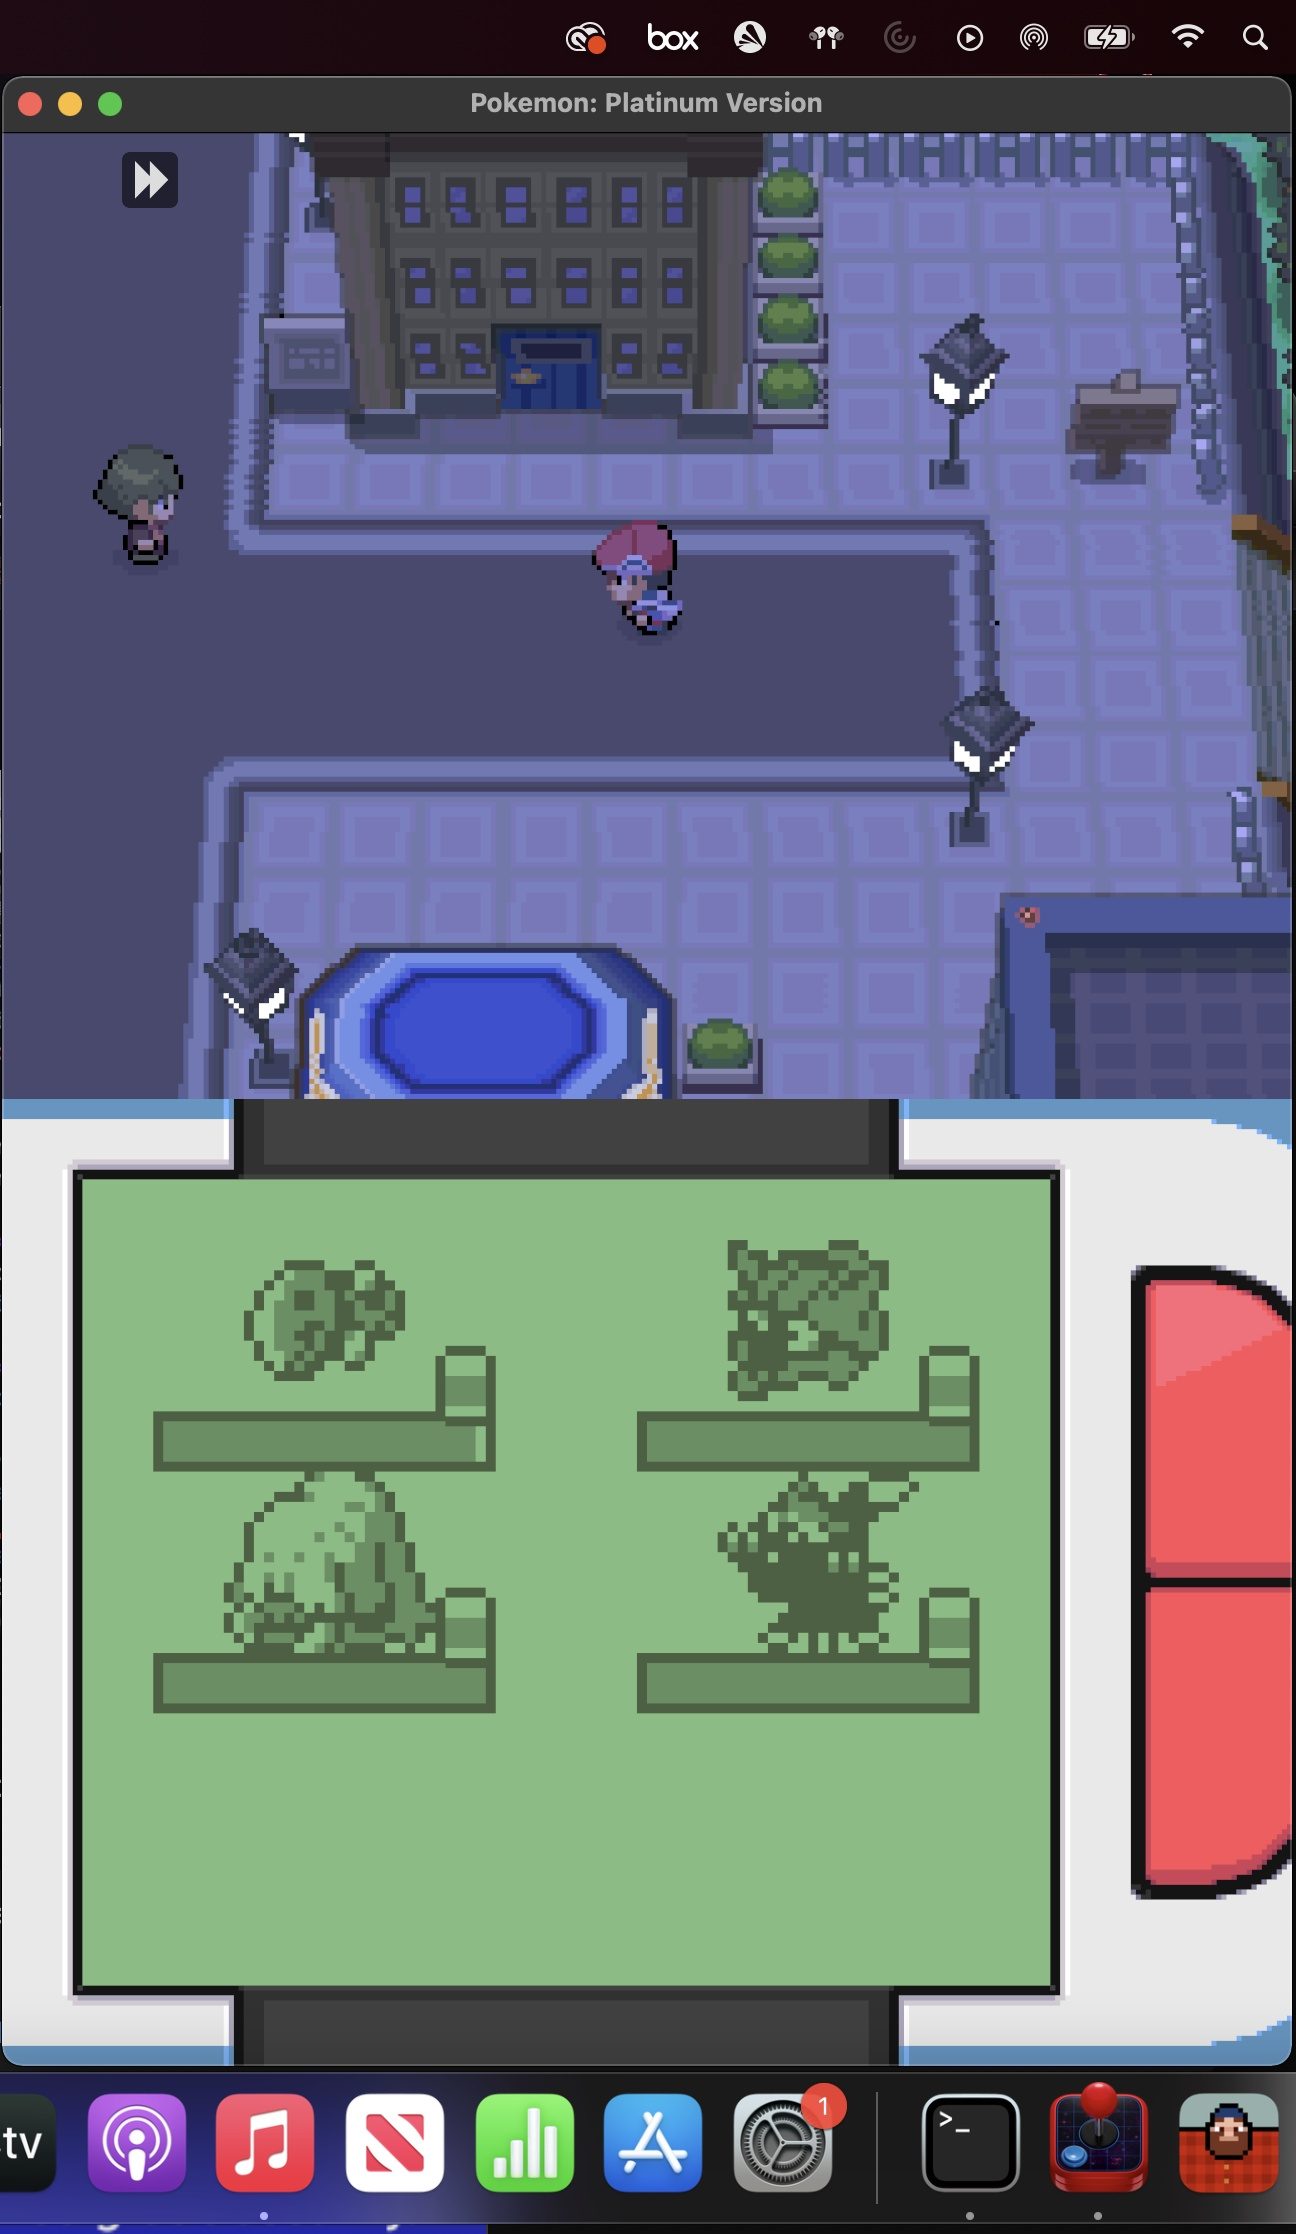player: (580, 511, 699, 641)
turn left: (906, 311, 1197, 513)
